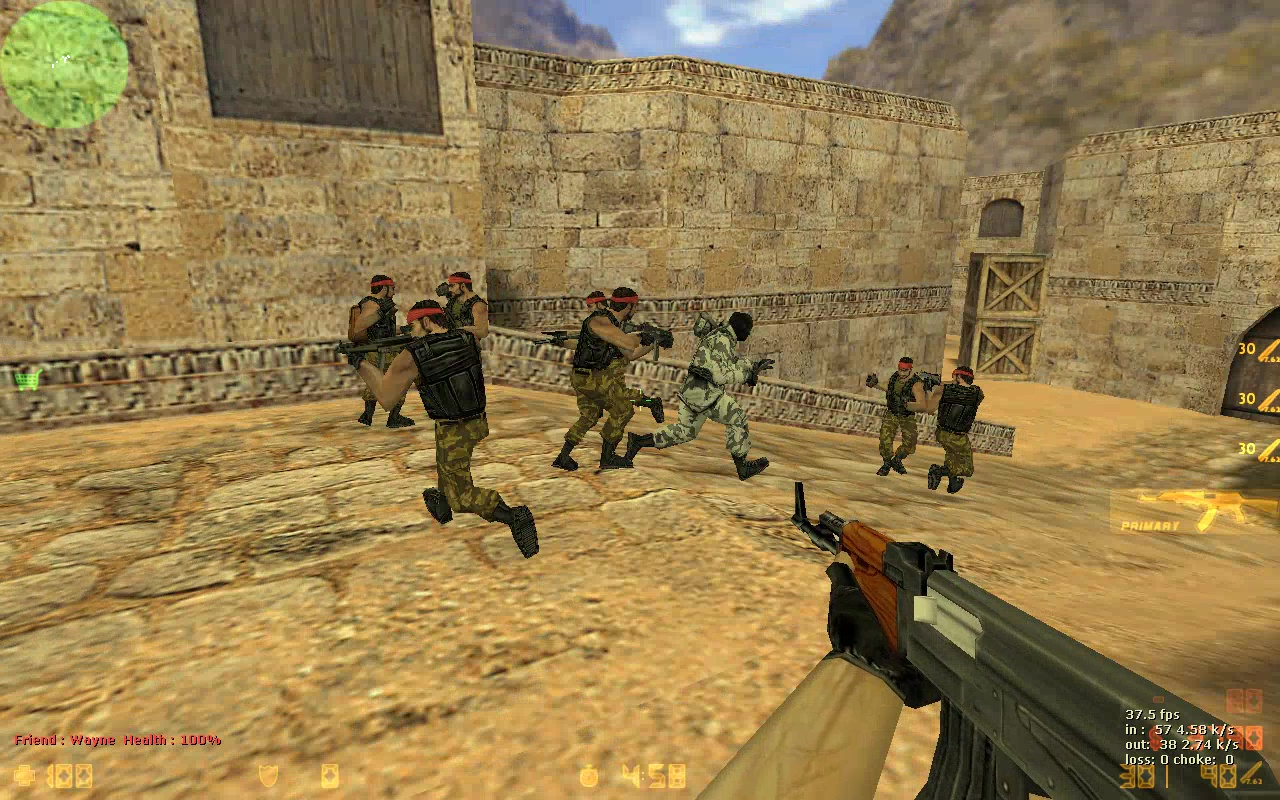terr1: (334, 300, 542, 563), (540, 288, 667, 472), (344, 274, 413, 434), (926, 364, 986, 501), (862, 357, 930, 477), (430, 272, 486, 412)
terr2: (621, 311, 776, 483)
